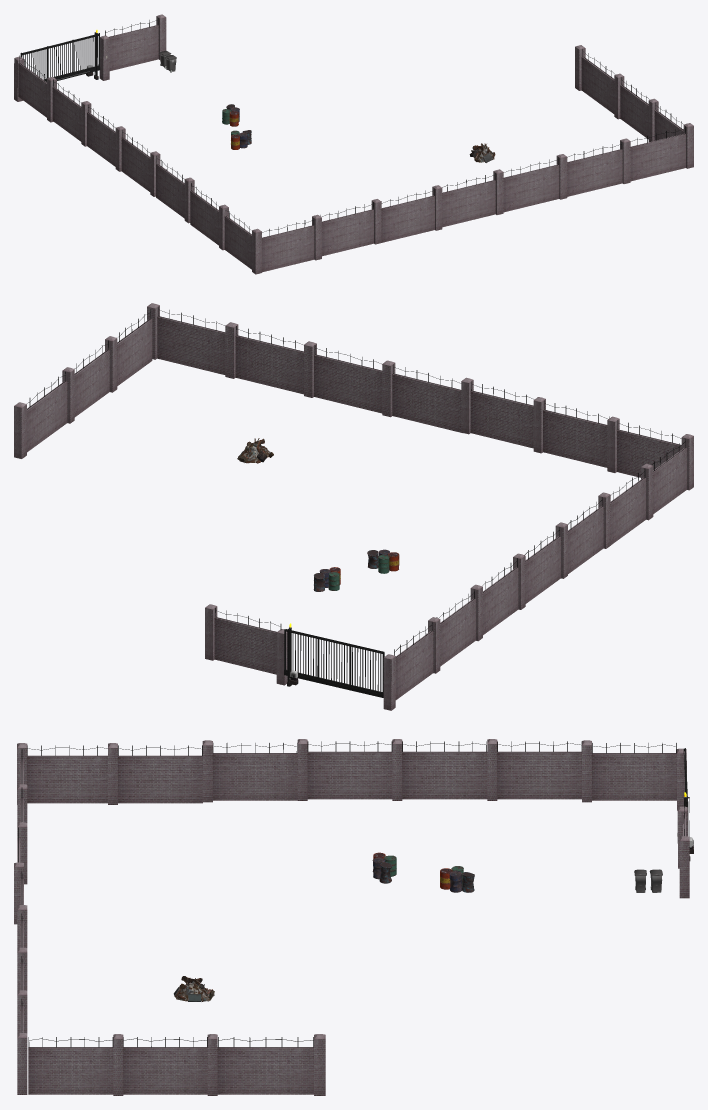
File: Pod Work.fbx
The picture shows the model from 3 angles, top to bottom: view 1: azimuth 30°, elevation 25°; view 2: azimuth 150°, elevation 25°; view 3: azimuth 270°, elevation 25°; orthographic projection. The views are drawn at different scales.
Visible parts, largest first — view 1: Industrial_fence_with_wire__9_, Industrial_fence_with_wire__19_, Industrial_fence_with_wire__20_, Industrial_fence_with_wire__8_, Industrial_fence_with_wire__7_, Industrial_fence_with_wire__6_, Industrial_fence_with_wire__5_, Industrial_fence_with_wire__12_, Industrial_fence_with_wire__23_, Industrial_fence_with_wire__18_, Industrial_fence_with_wire__16_, Industrial_fence_with_wire__13_ (+10 smaller); view 2: Industrial_fence_with_wire__8_, Industrial_fence_with_wire__19_, Industrial_fence_with_wire__9_, Industrial_fence_with_wire__6_, Industrial_fence_with_wire__20_, Industrial_fence_with_wire__7_, Industrial_fence_with_wire__12_, Industrial_fence_with_wire__23_, Industrial_fence_with_wire__5_, Industrial_fence_with_wire__11_, Industrial_fence_with_wire__21_, Industrial_fence_with_wire__17_ (+10 smaller); view 3: Industrial_fence_with_wire__23_, Industrial_fence_with_wire__15_, Industrial_fence_with_wire__14_, Industrial_fence_with_wire__21_, Industrial_fence_with_wire__13_, Industrial_fence_with_wire__17_, Industrial_fence_with_wire__16_, Industrial_fence_with_wire__22_, Industrial_fence_with_wire__11_, Industrial_fence_with_wire__18_, Industrial_fence_with_wire__20_, Industrial_fence_with_wire__12_ (+2 smaller).
Part boxes in pixels (box(x1,y1,x2,y2)): Industrial_fence_with_wire__9_: box(503, 154, 567, 212); Industrial_fence_with_wire__19_: box(567, 138, 630, 196); Industrial_fence_with_wire__20_: box(630, 123, 693, 181); Industrial_fence_with_wire__8_: box(442, 169, 503, 227); Industrial_fence_with_wire__7_: box(381, 185, 442, 242); Industrial_fence_with_wire__6_: box(320, 199, 381, 256); Industrial_fence_with_wire__5_: box(262, 214, 321, 272); Industrial_fence_with_wire__12_: box(105, 14, 166, 70); Industrial_fence_with_wire__23_: box(575, 45, 615, 113); Industrial_fence_with_wire__18_: box(224, 210, 261, 274); Industrial_fence_with_wire__16_: box(156, 156, 194, 223); Industrial_fence_with_wire__13_: box(52, 79, 91, 146); Industrial_fence_with_wire__8_: box(382, 360, 463, 433); Industrial_fence_with_wire__19_: box(225, 322, 303, 394); Industrial_fence_with_wire__9_: box(304, 341, 382, 413); Industrial_fence_with_wire__6_: box(533, 397, 609, 467); Industrial_fence_with_wire__20_: box(147, 303, 225, 374); Industrial_fence_with_wire__7_: box(461, 377, 534, 448); Industrial_fence_with_wire__12_: box(205, 604, 281, 674); Industrial_fence_with_wire__23_: box(14, 371, 67, 458); Industrial_fence_with_wire__5_: box(607, 416, 681, 477); Industrial_fence_with_wire__11_: box(394, 617, 440, 699); Industrial_fence_with_wire__21_: box(105, 309, 152, 392); Industrial_fence_with_wire__17_: box(610, 463, 653, 545); Industrial_fence_with_wire__23_: box(217, 1034, 325, 1095); Industrial_fence_with_wire__15_: box(297, 739, 392, 800); Industrial_fence_with_wire__14_: box(392, 739, 487, 800); Industrial_fence_with_wire__21_: box(28, 1034, 123, 1095); Industrial_fence_with_wire__13_: box(487, 739, 581, 800); Industrial_fence_with_wire__17_: box(108, 743, 202, 804); Industrial_fence_with_wire__16_: box(202, 740, 297, 802); Industrial_fence_with_wire__22_: box(123, 1034, 217, 1095); Industrial_fence_with_wire__11_: box(582, 740, 676, 802); Industrial_fence_with_wire__18_: box(17, 743, 107, 804); Industrial_fence_with_wire__20_: box(17, 999, 27, 1094); Industrial_fence_with_wire__12_: box(679, 801, 689, 898).
Bounding box in the file's own units: 3457 × 380 × 3371.
